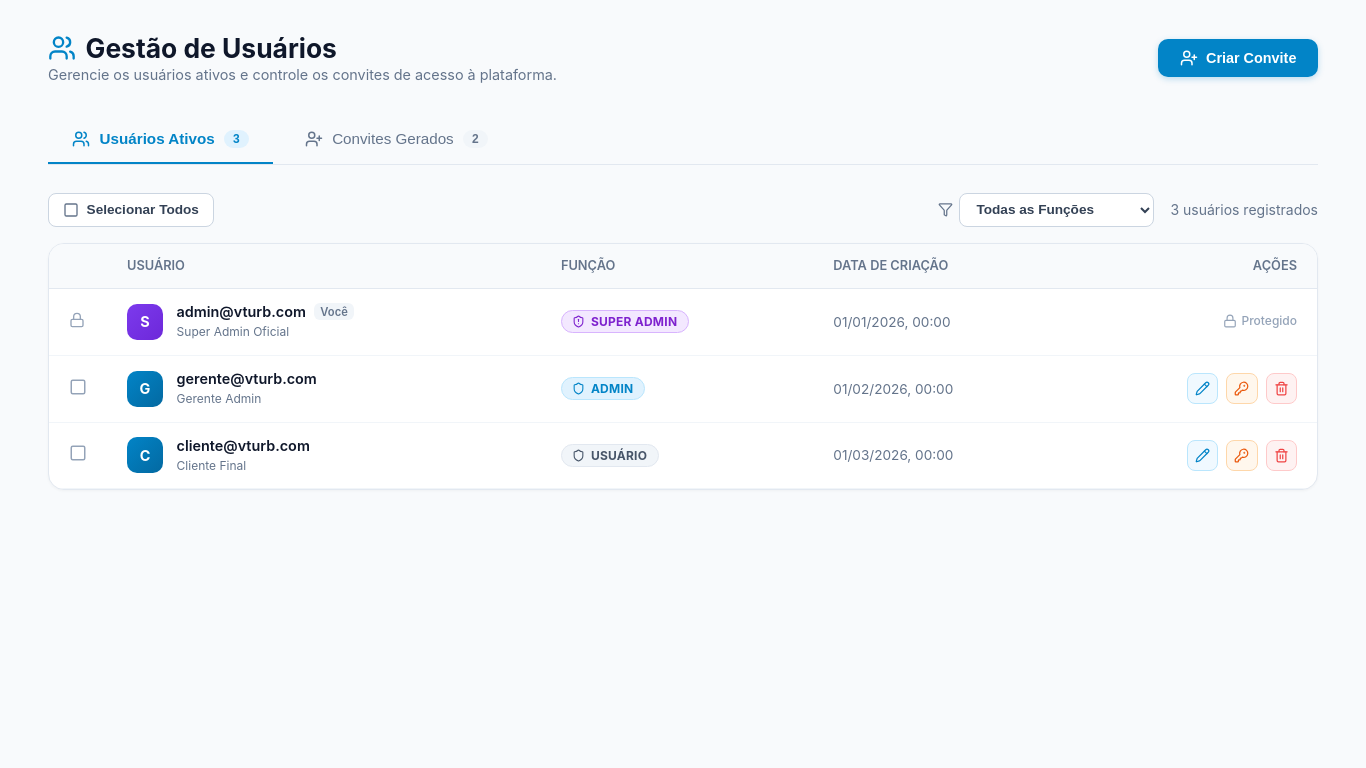
Test: UserManagementView - Gestão de Usuários e Convites › exibe botão de editar para admin e usuário, oculta no super admin e permite salvar alterações pelo modal
# Clica no botão de editar do Admin
Click the button named "Editar usuário" in the row of "gerente@vturb.com" at (1203, 389), box [1187, 373, 1218, 404]
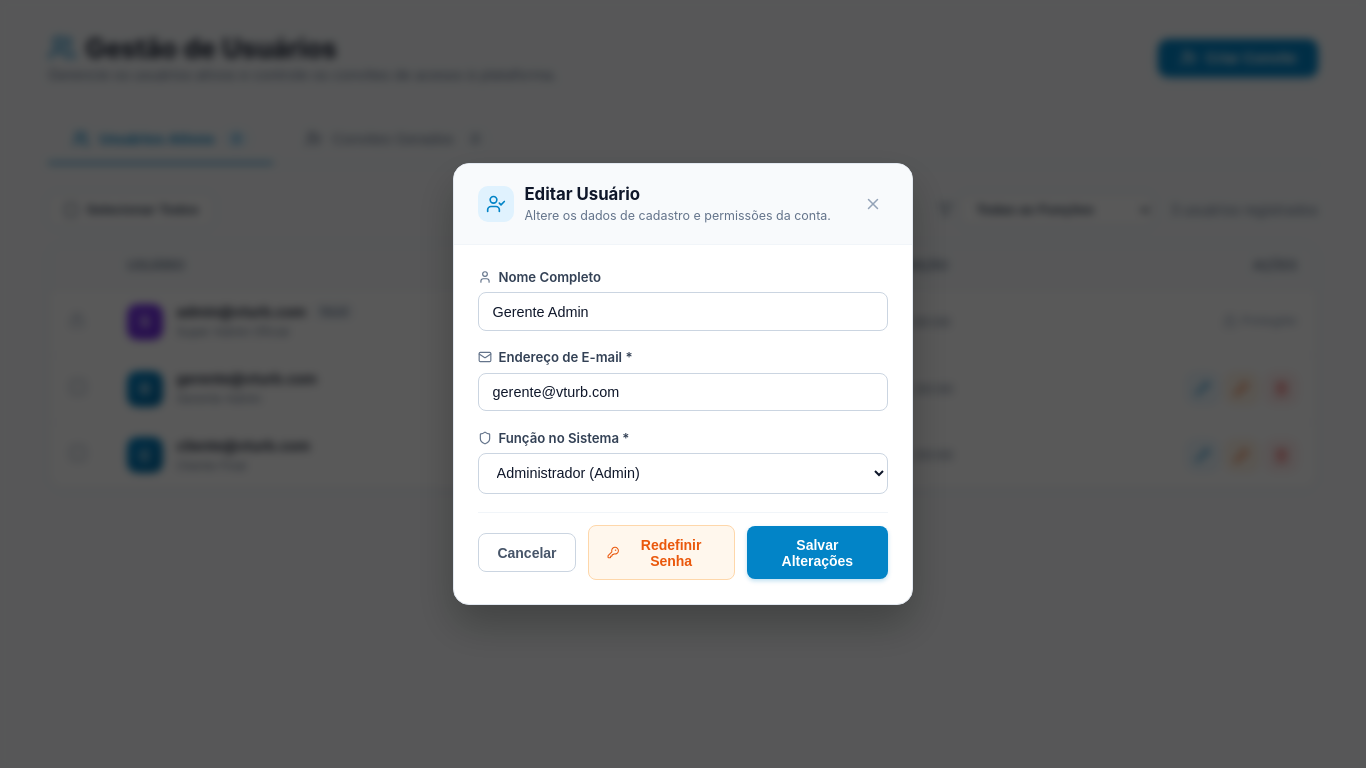
Expected: the element with test id "edit-user-modal" is shown, [453, 163, 913, 605]
Expected: the field with test id "input-edit-user-name" holds "Gerente Admin"
Expected: the field with test id "input-edit-user-email" holds "gerente@vturb.com", [478, 373, 888, 411]
# Altera os campos no modal
Replace the text in the field with test id "input-edit-user-name" with "Gerente Geral Editado" at (683, 312), box [478, 292, 888, 331]
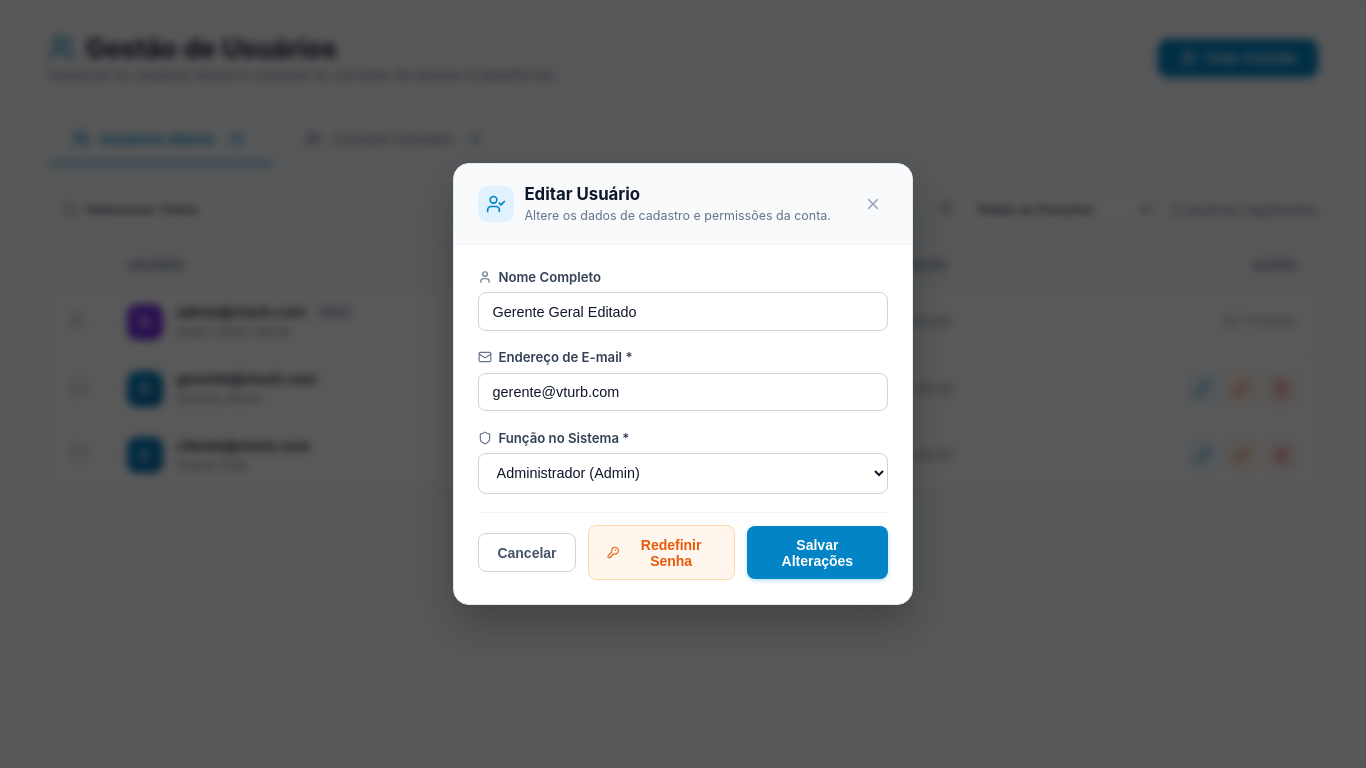
Replace the text in the field with test id "input-edit-user-email" with "gerente.editado@vturb.com" at (683, 392), box [478, 373, 888, 411]
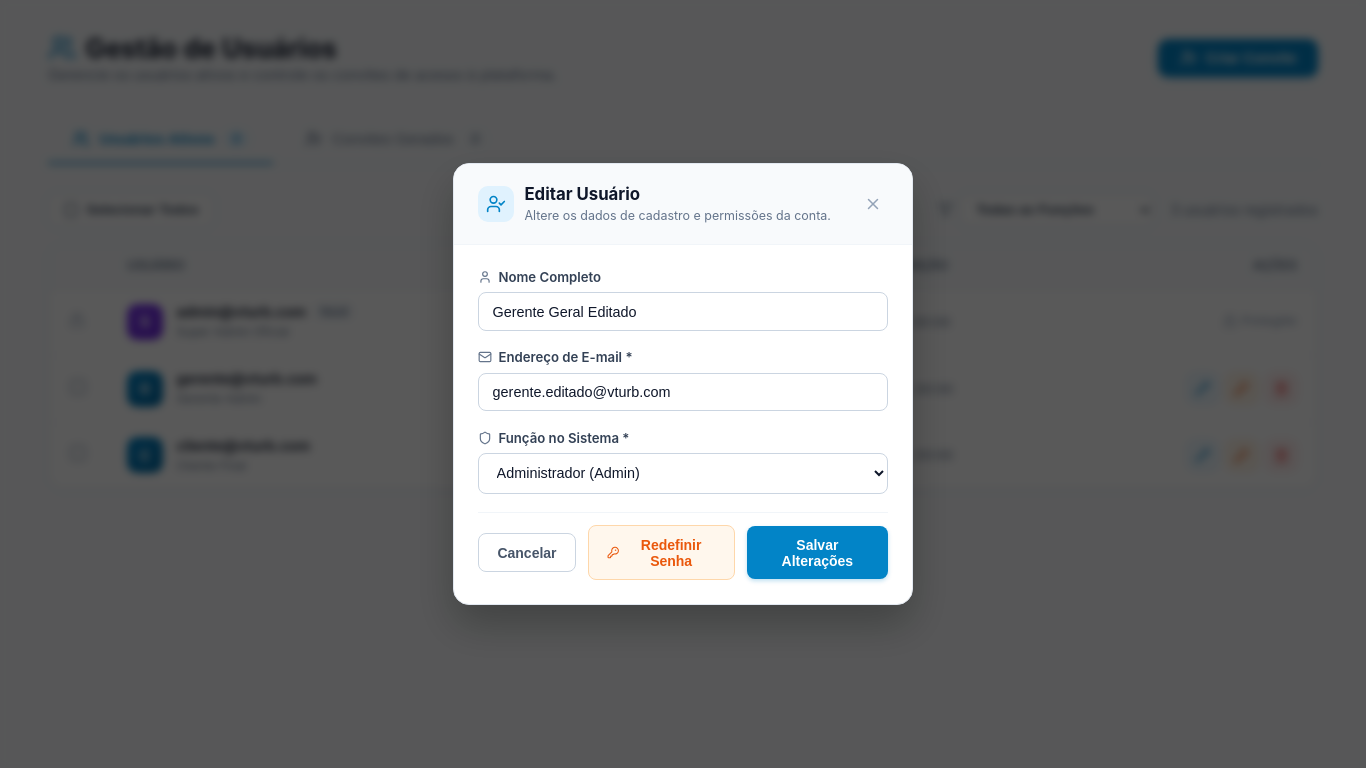
Select "Usuário (Padrão)" in the dropdown with test id "select-edit-user-role" at (683, 473), box [478, 453, 888, 494]
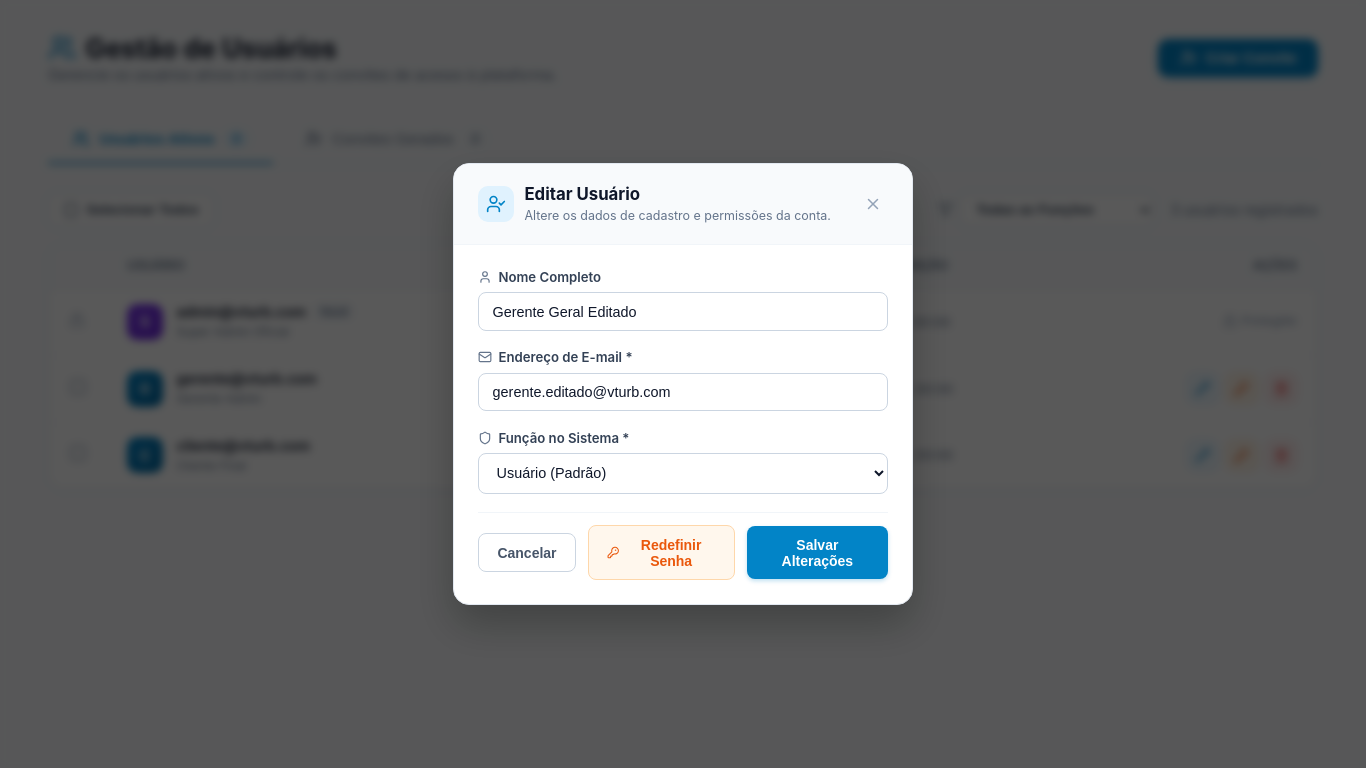
# Salva o formulário
Click the button with test id "btn-save-edit-user" at (817, 552), box [747, 526, 888, 579]
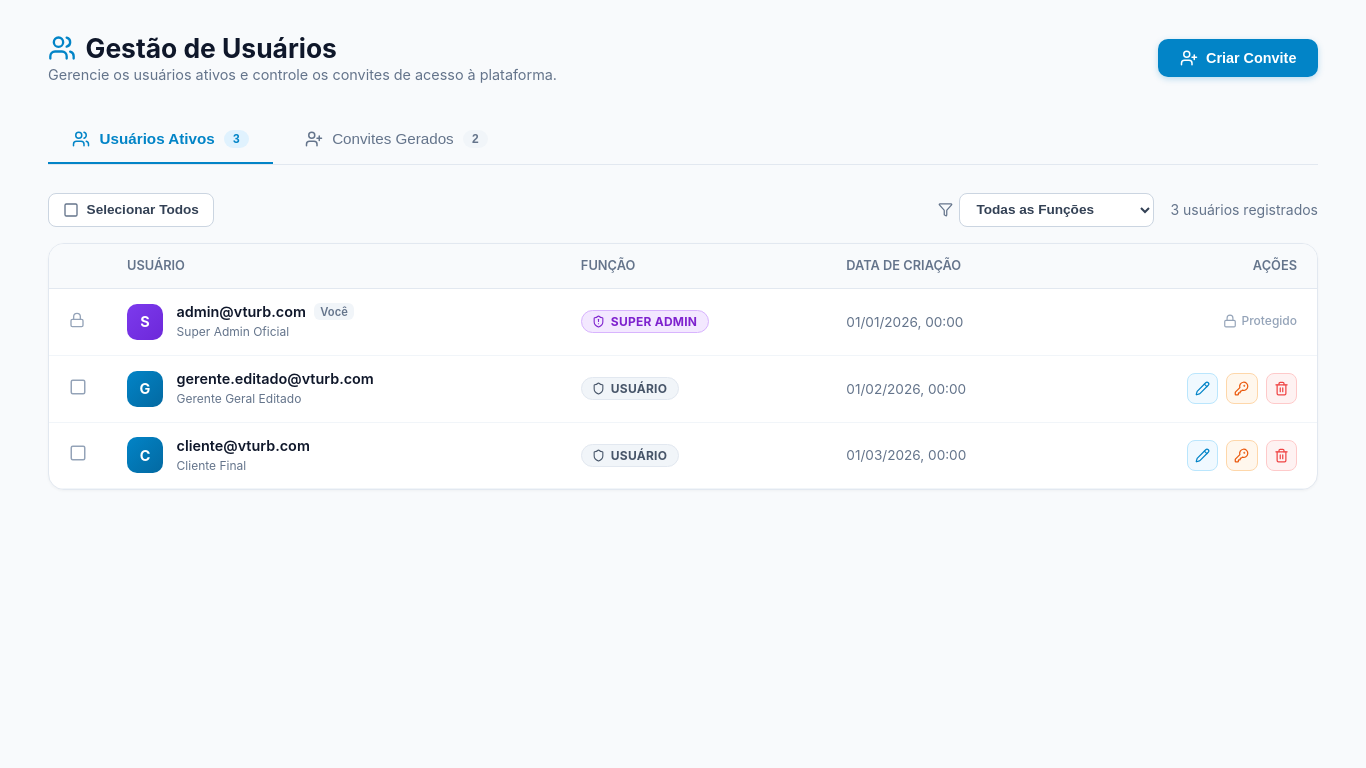
Expected: the element with test id "edit-user-modal" is gone
